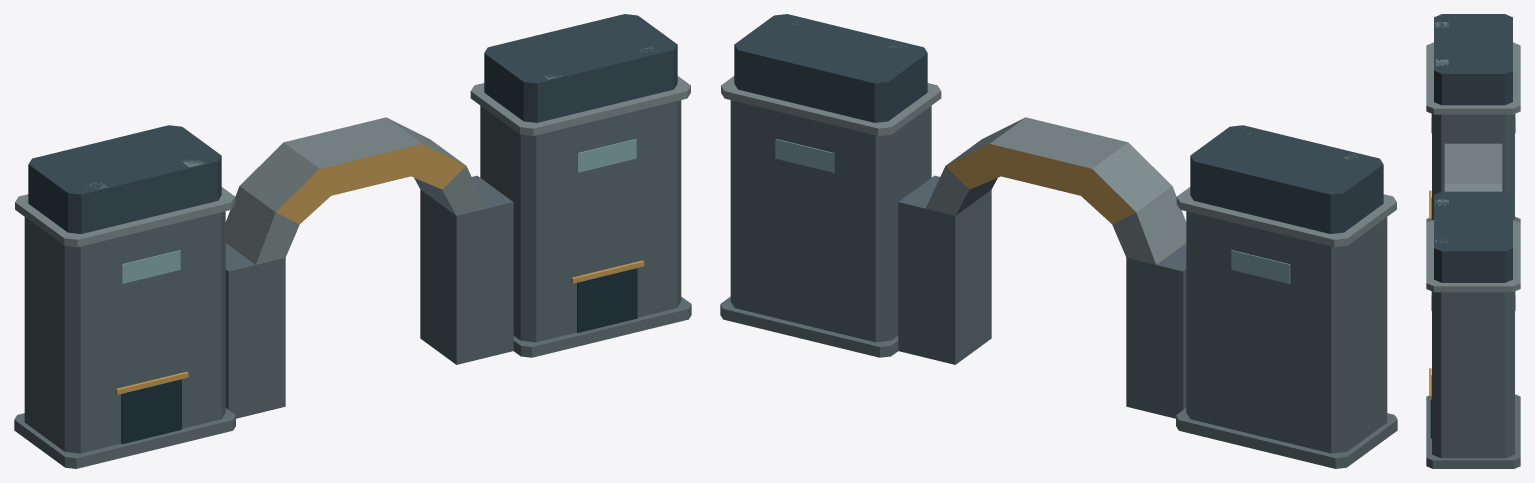
The model's file is submarine-gate.glb.
3 renders of one model, left to right at view 1: azimuth 30°, elevation 25°; view 2: azimuth 150°, elevation 25°; view 3: azimuth 270°, elevation 25°, orthographic. The views are drawn at different scales.
Visible parts, largest first — view 1: intact_structure; view 2: intact_structure; view 3: intact_structure.
Boxes of the visible parts, x1,y1,x2,y2 form: intact_structure: [14, 14, 691, 468]; intact_structure: [720, 14, 1397, 468]; intact_structure: [1426, 14, 1520, 468].
Size of the model in its own units: 22 by 9 by 3.6.
